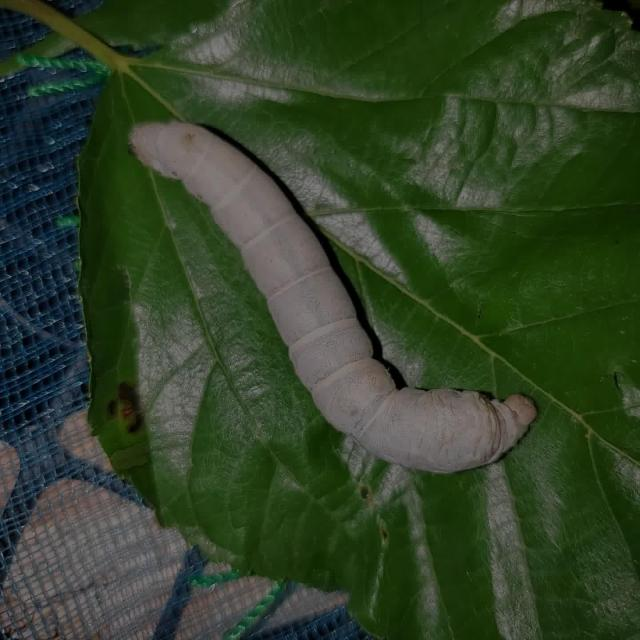Healthy: (120, 110, 546, 492)
